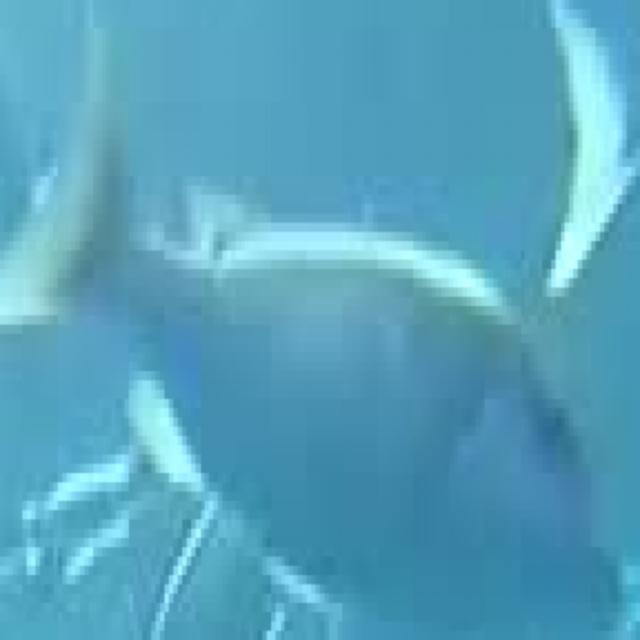fish: (4, 9, 640, 640)
